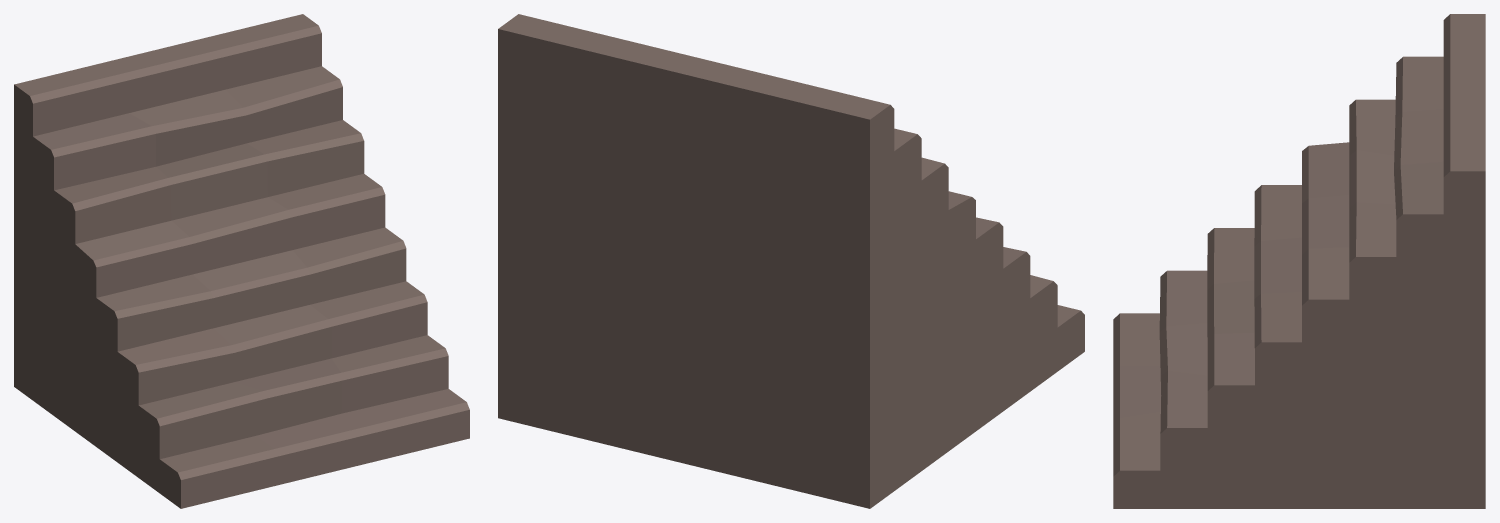
File: Village_Stairs_A.fbx
3 views of the same model, side by side, from view 1: azimuth 30°, elevation 25°; view 2: azimuth 150°, elevation 25°; view 3: azimuth 270°, elevation 25° (orthographic). The views are drawn at different scales.
Visible parts, largest first — view 1: Cube.004; view 2: Cube.004; view 3: Cube.004.
Boxes of the visible parts, x1,y1,x2,y2 form: Cube.004: [14, 14, 469, 508]; Cube.004: [498, 14, 1084, 508]; Cube.004: [1113, 14, 1485, 508].
Size of the model in its own units: 200 by 200 by 200.
